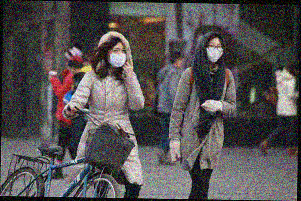with_mask: (108, 46, 127, 68), (206, 42, 225, 63)
